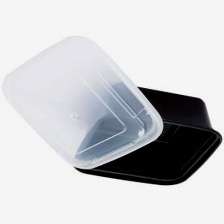plastic_box: (0, 29, 224, 193)
